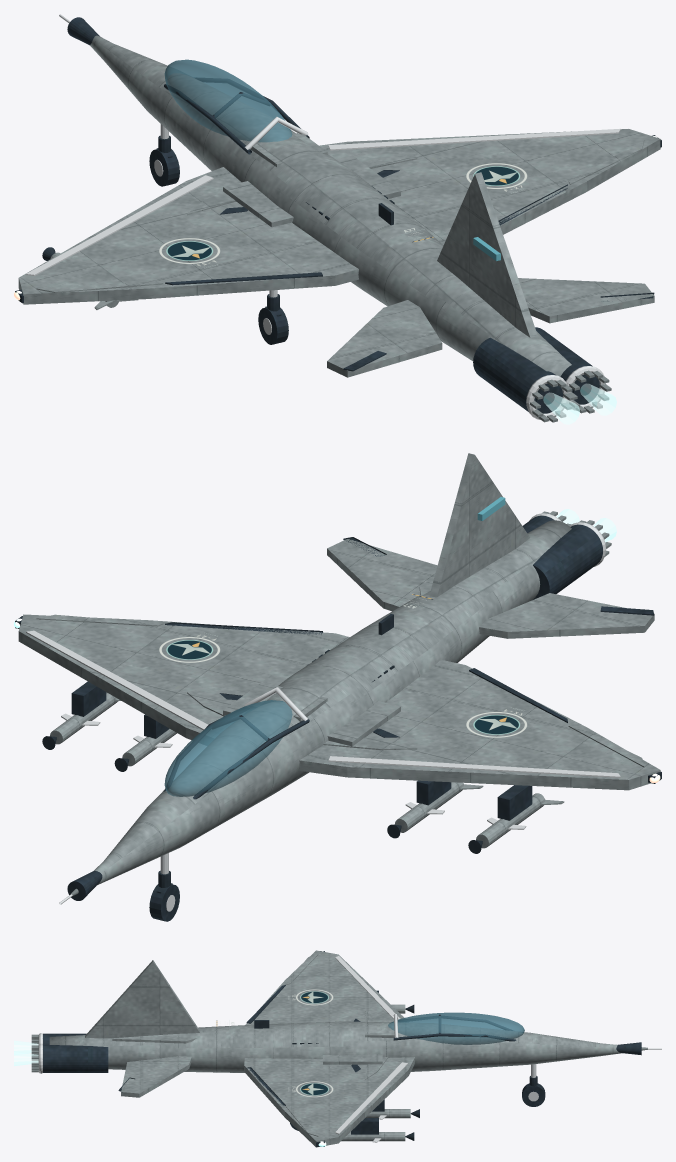
The model's file is kestrel-hd.glb.
The picture shows the model from 3 angles, top to bottom: view 1: azimuth 30°, elevation 25°; view 2: azimuth 150°, elevation 25°; view 3: azimuth 270°, elevation 25°; orthographic projection. The views are drawn at different scales.
Visible parts, largest first — view 1: Sculpted F27 fuselage, Machined delta wing -1, Machined delta wing 1, Swept single tail fin, Panoramic fighter canopy, Elevator -1, Elevator 1, Turbine sleeve -1, Leading edge slat 1, Leading edge slat -1, Intake upper fairing -1, Inkscape Kestrel wing insignia -1 (+9 smaller); view 2: Sculpted F27 fuselage, Machined delta wing -1, Machined delta wing 1, Panoramic fighter canopy, Swept single tail fin, Elevator -1, Elevator 1, Turbine sleeve -1, Leading edge slat -1, Intake upper fairing -1, Leading edge slat 1, Inkscape Kestrel wing insignia 1 (+10 smaller); view 3: Sculpted F27 fuselage, Machined delta wing 1, Machined delta wing -1, Swept single tail fin, Panoramic fighter canopy, Elevator 1, Turbine sleeve 1, Intake upper fairing 1, Missile body.003, Leading edge slat 1, Fin dorsal transition, Inkscape Kestrel wing insignia -1 (+6 smaller).
Boxes of the visible parts, x1,y1,x2,y2 form: Sculpted F27 fuselage: [90, 35, 571, 376]; Machined delta wing -1: [18, 167, 358, 304]; Machined delta wing 1: [319, 129, 660, 244]; Swept single tail fin: [437, 172, 537, 337]; Panoramic fighter canopy: [164, 59, 292, 142]; Elevator -1: [327, 300, 442, 377]; Elevator 1: [518, 278, 654, 323]; Turbine sleeve -1: [473, 337, 562, 413]; Leading edge slat 1: [328, 128, 620, 150]; Leading edge slat -1: [26, 175, 213, 275]; Intake upper fairing -1: [223, 181, 293, 227]; Inkscape Kestrel wing insignia -1: [159, 238, 220, 267]; Sculpted F27 fuselage: [71, 520, 571, 896]; Machined delta wing -1: [298, 659, 660, 790]; Machined delta wing 1: [18, 614, 349, 739]; Panoramic fighter canopy: [164, 700, 292, 796]; Swept single tail fin: [429, 453, 529, 597]; Elevator -1: [479, 593, 654, 638]; Elevator 1: [327, 539, 437, 611]; Turbine sleeve -1: [532, 524, 602, 600]; Leading edge slat -1: [328, 756, 620, 777]; Intake upper fairing -1: [327, 701, 400, 746]; Leading edge slat 1: [26, 630, 207, 730]; Inkscape Kestrel wing insignia 1: [159, 633, 220, 662]; Sculpted F27 fuselage: [49, 1021, 647, 1072]; Machined delta wing 1: [244, 1057, 414, 1147]; Machined delta wing -1: [245, 950, 404, 1024]; Swept single tail fin: [85, 960, 199, 1038]; Panoramic fighter canopy: [388, 1012, 524, 1044]; Elevator 1: [121, 1056, 191, 1097]; Turbine sleeve 1: [43, 1044, 108, 1072]; Intake upper fairing 1: [323, 1054, 382, 1064]; Missile body.003: [341, 1132, 405, 1141]; Leading edge slat 1: [335, 1062, 407, 1134]; Fin dorsal transition: [112, 1035, 196, 1043]; Inkscape Kestrel wing insignia -1: [288, 989, 333, 1005].
Size of the model in its own units: 16.77 by 5.91 by 23.84.
15 materials, 8 textured.
